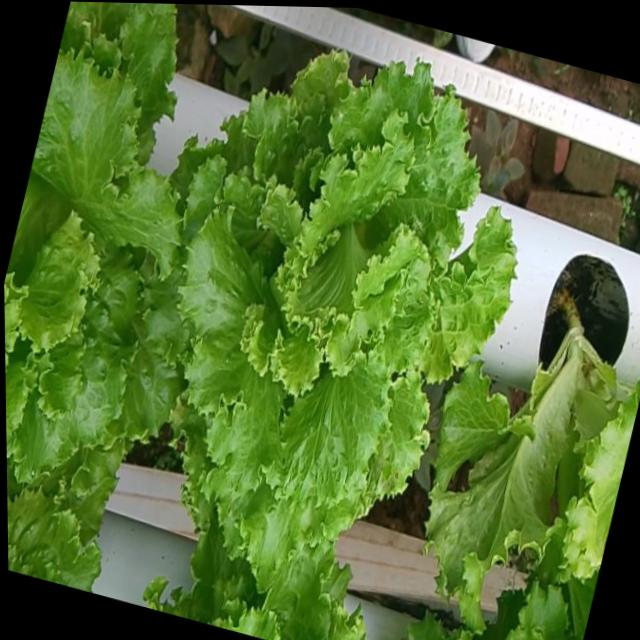Mature: (179, 43, 526, 561), (4, 28, 196, 473)
